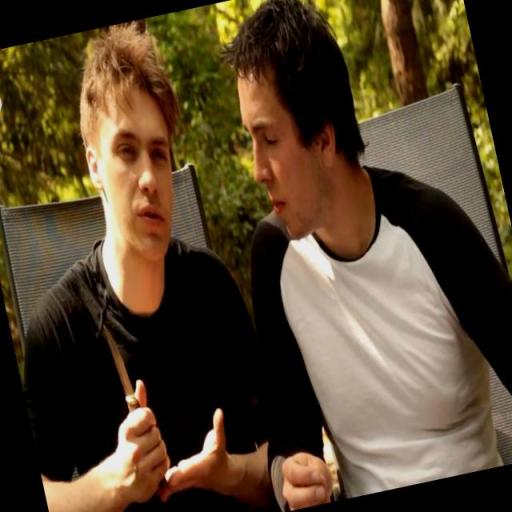knife: (86, 302, 169, 458)
